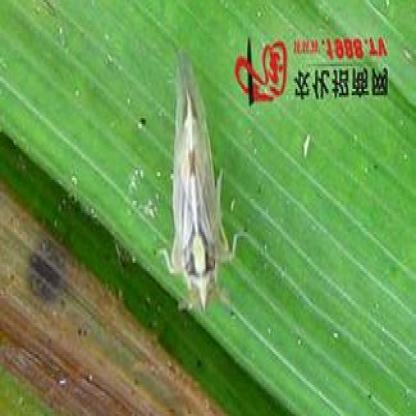brown-planthopper: (164, 45, 234, 318)
